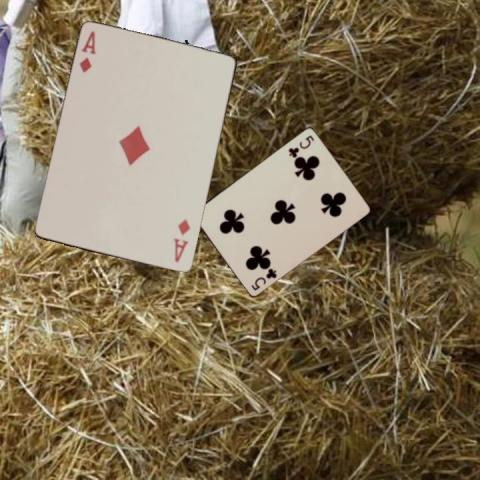5c: (285, 132, 316, 159), (248, 265, 278, 291)
Ad: (171, 216, 192, 264), (77, 28, 98, 75)
